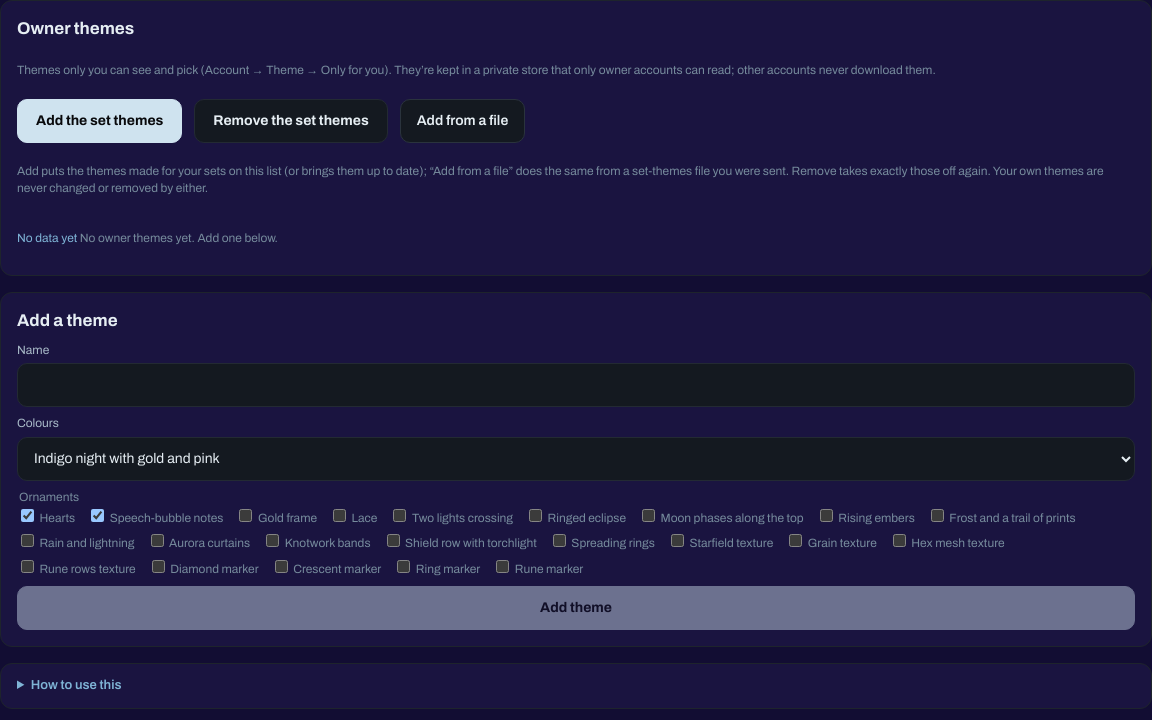
Test case: owner-only themes in the app (T47) › Owner console: add a theme from a colour set with ornaments; no picture until you give one
Type "After Hours" into the field labelled "Name" at point(576, 385), box [17, 363, 1135, 407]
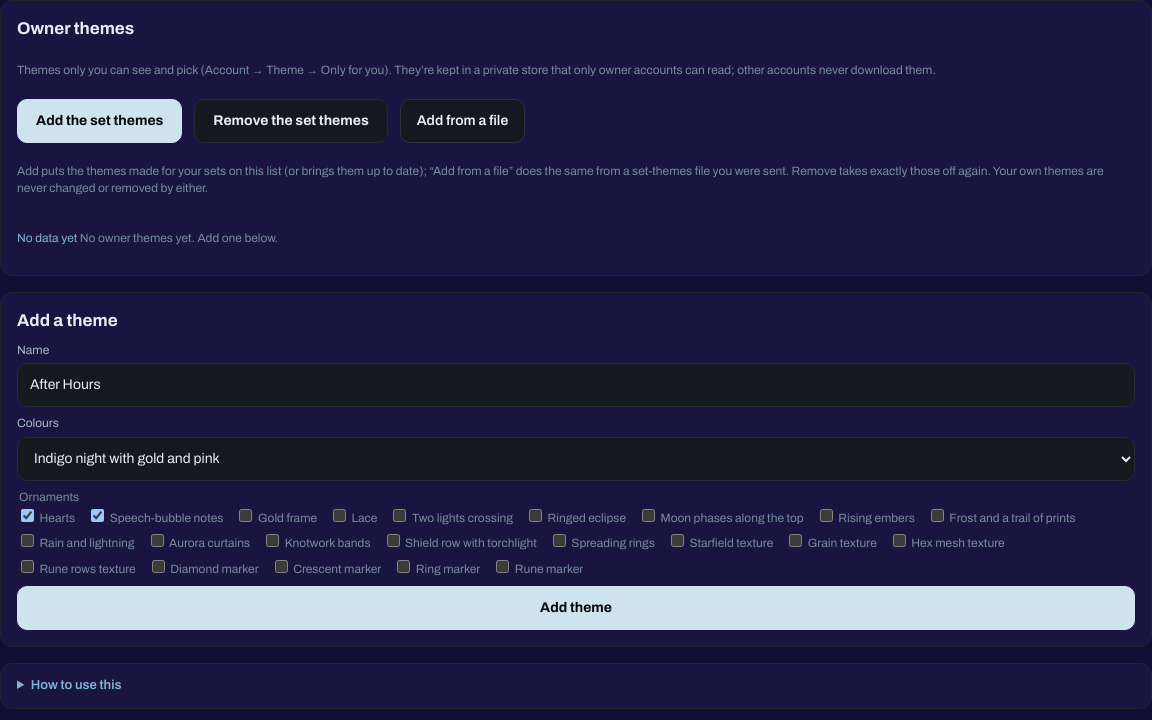
Click the checkbox labelled "Gold frame" at point(246, 516), box [240, 509, 252, 522]
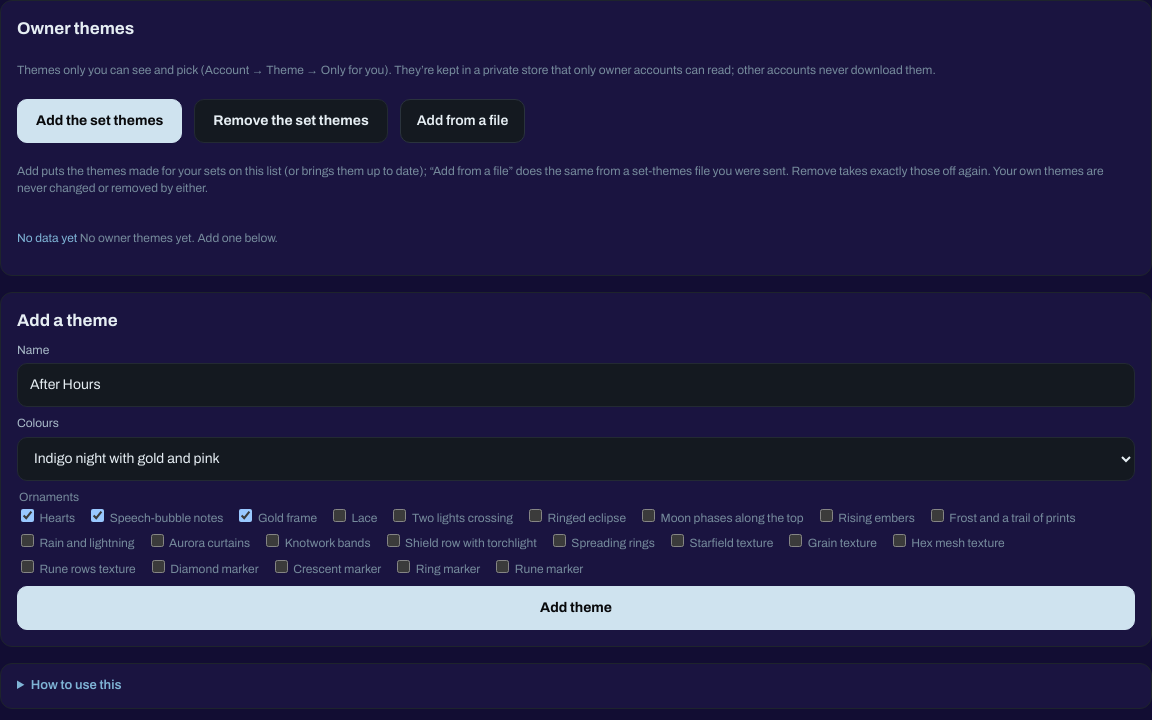
Click the button "Add theme" at point(576, 608), box [17, 586, 1135, 630]
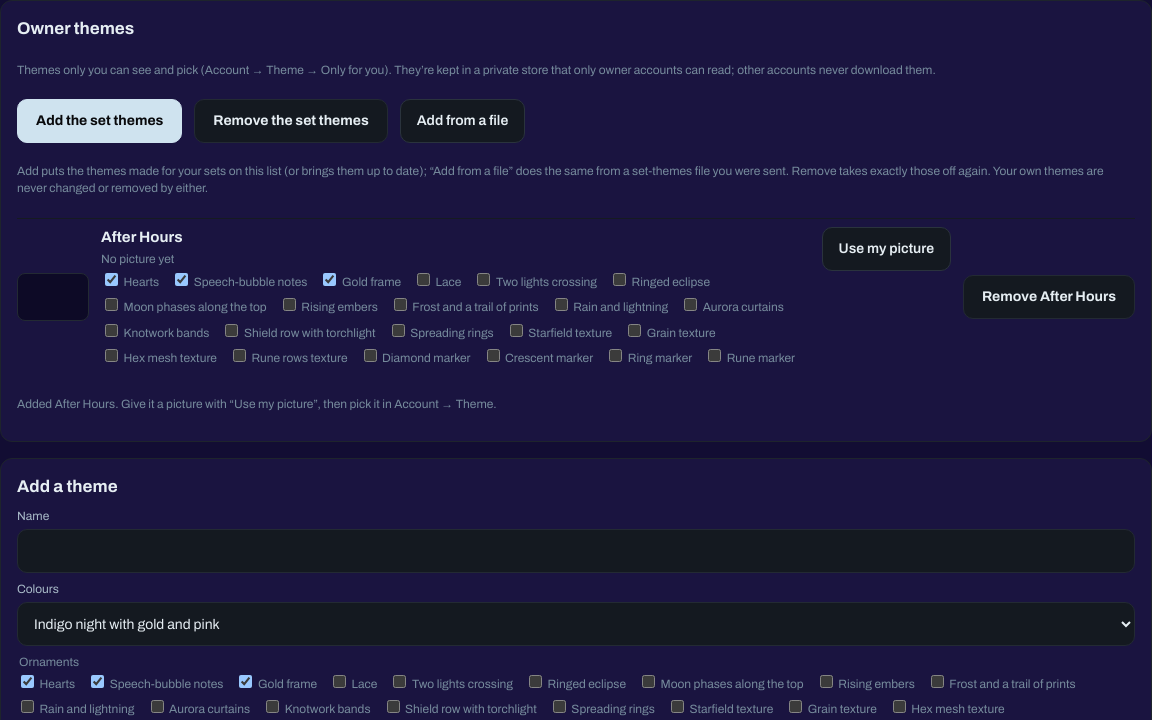
Expected: the text "Added After Hours" is shown, [17, 396, 497, 410]
Expected: the text "No picture yet" is shown, [101, 252, 174, 266]
